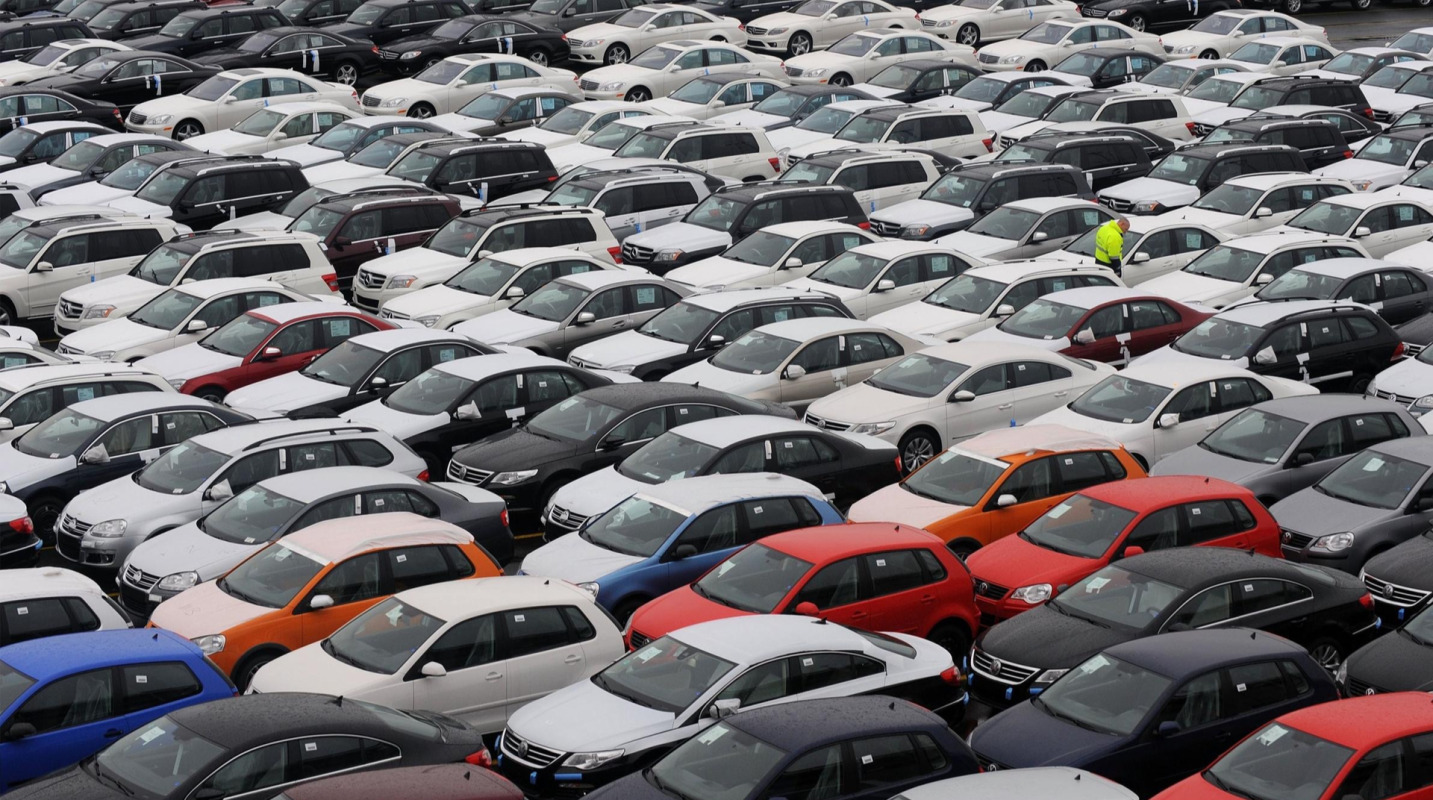Car: (497, 615, 965, 800), (968, 548, 1377, 707), (148, 512, 503, 690), (969, 628, 1338, 797), (117, 466, 514, 622), (246, 576, 624, 736), (54, 414, 427, 572), (0, 693, 492, 800), (446, 382, 793, 527), (519, 474, 843, 624), (626, 524, 978, 660), (966, 476, 1282, 626), (541, 415, 902, 539), (582, 696, 979, 800), (0, 392, 284, 537), (804, 341, 1116, 471), (849, 424, 1145, 557), (0, 629, 235, 794), (342, 353, 639, 479), (55, 229, 342, 339), (1150, 394, 1425, 505), (1031, 363, 1318, 469), (1152, 692, 1433, 800), (351, 201, 621, 312), (132, 301, 426, 402), (223, 328, 535, 418), (659, 317, 945, 413), (566, 288, 854, 381), (1129, 297, 1403, 392), (56, 278, 347, 363), (620, 180, 871, 274), (453, 270, 717, 358), (1272, 436, 1433, 573), (867, 258, 1126, 343), (378, 248, 648, 329), (962, 286, 1217, 366), (0, 214, 178, 324), (869, 159, 1096, 240), (286, 184, 461, 289), (1136, 234, 1368, 310), (776, 241, 1000, 319), (125, 67, 361, 140), (663, 221, 897, 291), (1096, 140, 1307, 215), (99, 157, 309, 230), (15, 50, 224, 123), (1034, 215, 1241, 288), (360, 53, 585, 119), (0, 360, 175, 443), (1229, 258, 1433, 326), (782, 105, 993, 170), (929, 197, 1136, 261), (0, 133, 200, 199), (580, 40, 787, 102), (992, 89, 1196, 150), (542, 168, 714, 240), (1161, 171, 1358, 233), (489, 159, 743, 207), (379, 15, 571, 76), (214, 176, 423, 231), (384, 138, 558, 203), (784, 28, 979, 86), (191, 26, 379, 86), (567, 4, 746, 66), (263, 116, 480, 167), (1263, 193, 1433, 257), (0, 567, 133, 648), (1190, 76, 1374, 134), (606, 121, 782, 181), (977, 17, 1166, 72), (779, 149, 940, 213), (744, 0, 922, 57), (37, 151, 217, 207), (183, 101, 362, 155), (993, 131, 1152, 190), (273, 764, 526, 800), (550, 115, 697, 176), (116, 6, 291, 57), (1336, 605, 1433, 696), (1161, 8, 1331, 59), (1310, 122, 1433, 191), (498, 100, 670, 149), (1200, 116, 1352, 170), (892, 767, 1138, 800), (708, 85, 880, 132), (768, 100, 903, 159), (0, 205, 193, 246), (909, 70, 1093, 113), (306, 133, 456, 184), (1360, 525, 1433, 629), (921, 0, 1082, 47), (429, 87, 579, 136), (1032, 121, 1188, 167), (326, 0, 475, 47), (979, 85, 1098, 141), (0, 38, 133, 87), (646, 74, 787, 120), (848, 59, 985, 104), (0, 120, 117, 172), (0, 86, 123, 134), (1106, 59, 1257, 98), (1246, 104, 1388, 144), (1288, 46, 1429, 86), (1367, 343, 1433, 418), (1083, 0, 1242, 31), (1221, 36, 1342, 76), (88, 0, 208, 40), (1049, 47, 1166, 88), (502, 0, 649, 32), (1348, 100, 1433, 155), (1360, 61, 1433, 124), (0, 17, 97, 63), (1182, 72, 1279, 116), (835, 144, 970, 173), (0, 338, 105, 370), (0, 493, 42, 568), (1383, 65, 1433, 123), (685, 0, 802, 24), (1373, 158, 1433, 199), (276, 0, 363, 28), (1244, 0, 1376, 15), (1384, 236, 1433, 275), (1397, 310, 1433, 358), (64, 0, 138, 23), (1385, 27, 1433, 60), (0, 184, 35, 222), (20, 0, 83, 18), (464, 0, 534, 16), (0, 325, 42, 347), (445, 193, 486, 211), (1379, 0, 1433, 9), (1417, 410, 1433, 435), (969, 151, 1002, 162)
